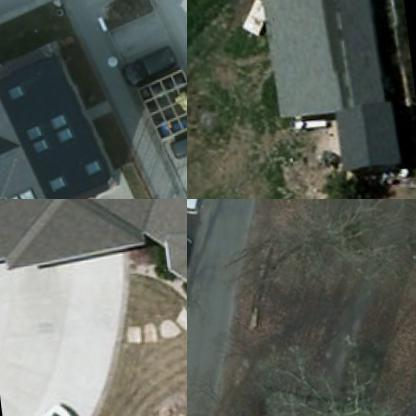car: (117, 45, 179, 89), (237, 0, 281, 42), (9, 400, 81, 415), (187, 234, 197, 293), (169, 125, 186, 159), (187, 199, 210, 216)
